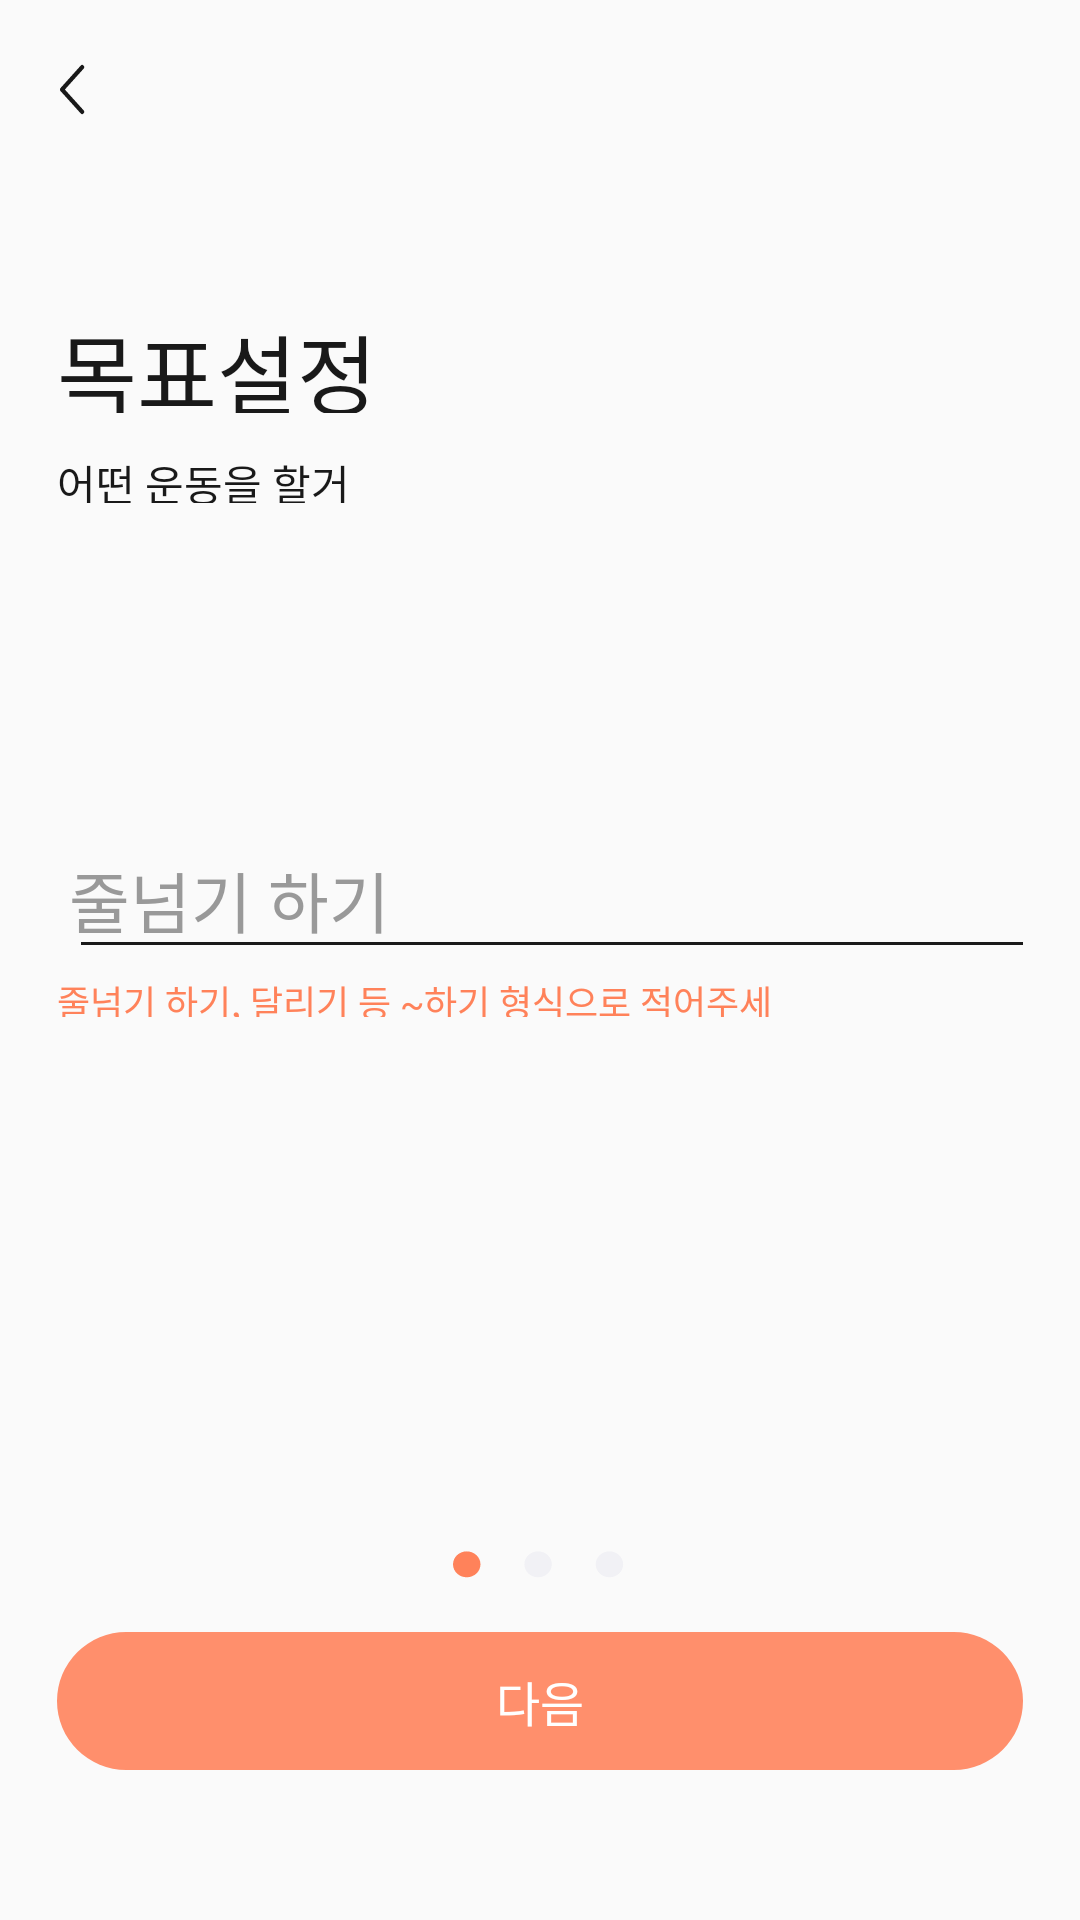

Screen size 1080×1920. Icon name, then its box in pixels as (x1, y1, x2, y2):
back: (60, 64, 85, 115)
